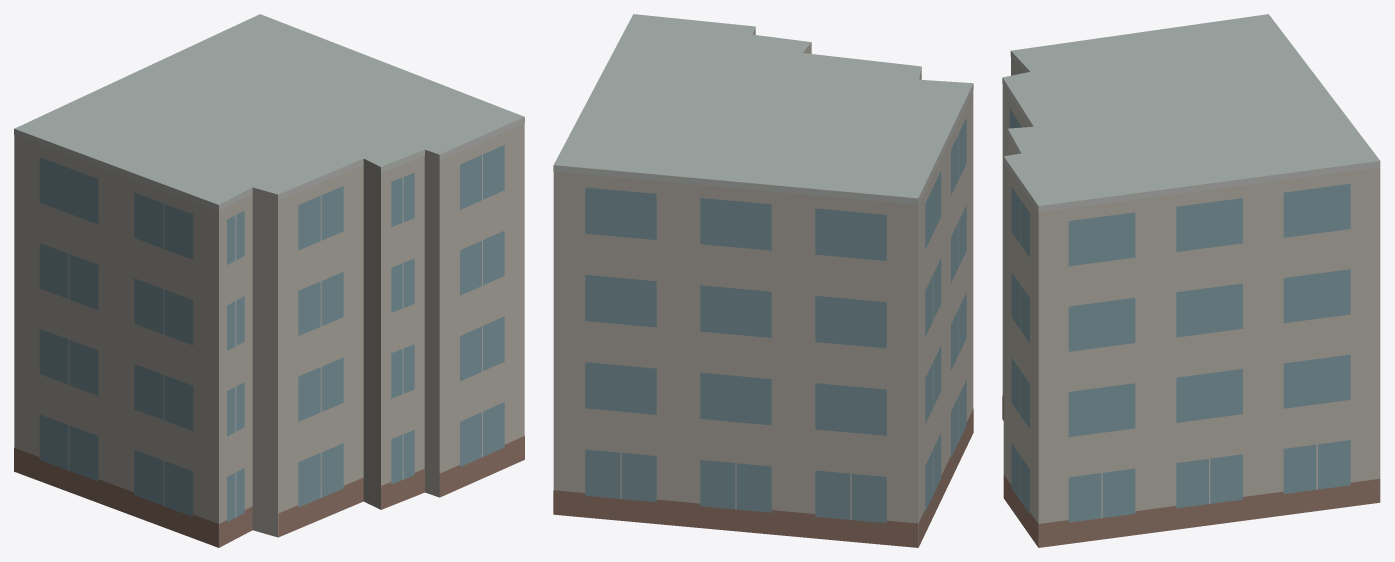
Rendered from survey-upis-32629799.glb.
3 views of the same model, side by side, from view 1: azimuth 30°, elevation 25°; view 2: azimuth 150°, elevation 25°; view 3: azimuth 270°, elevation 25° (orthographic). The views are drawn at different scales.
Parts seen in each view (by area): view 1: survey-upis-32629799.tmp; view 2: survey-upis-32629799.tmp; view 3: survey-upis-32629799.tmp.
Part boxes in pixels (<box>): survey-upis-32629799.tmp: <box>14,14,524,547</box>; survey-upis-32629799.tmp: <box>553,14,973,547</box>; survey-upis-32629799.tmp: <box>1002,14,1380,547</box>.
Size of the model in its own units: 15.93 by 13.2 by 13.24.
